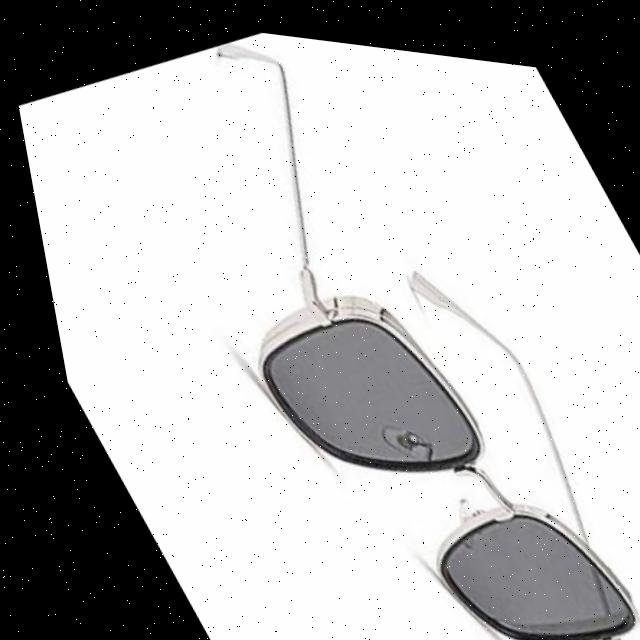gozluk: (191, 202, 640, 640)
